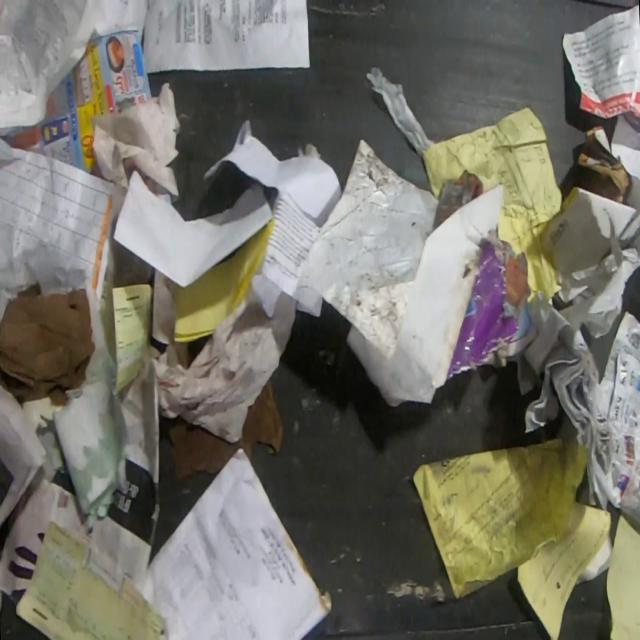cardboard: (444, 226, 534, 382), (0, 281, 96, 407), (576, 124, 629, 205), (430, 168, 484, 234)
